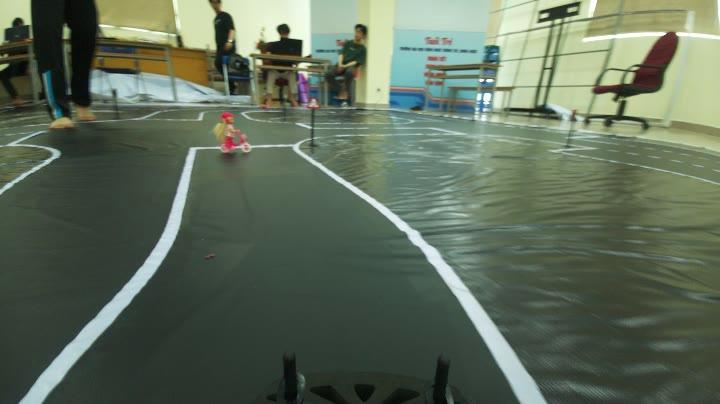pedestrian: (212, 110, 254, 158)
